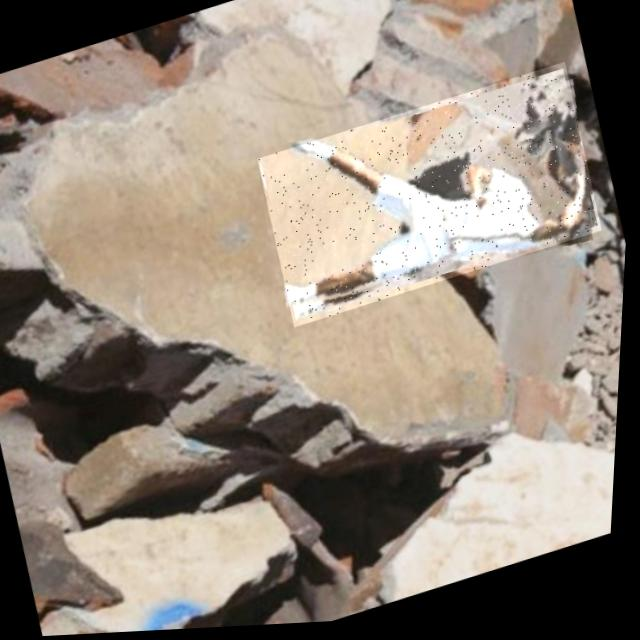Person in Rubble: (251, 66, 610, 332)
